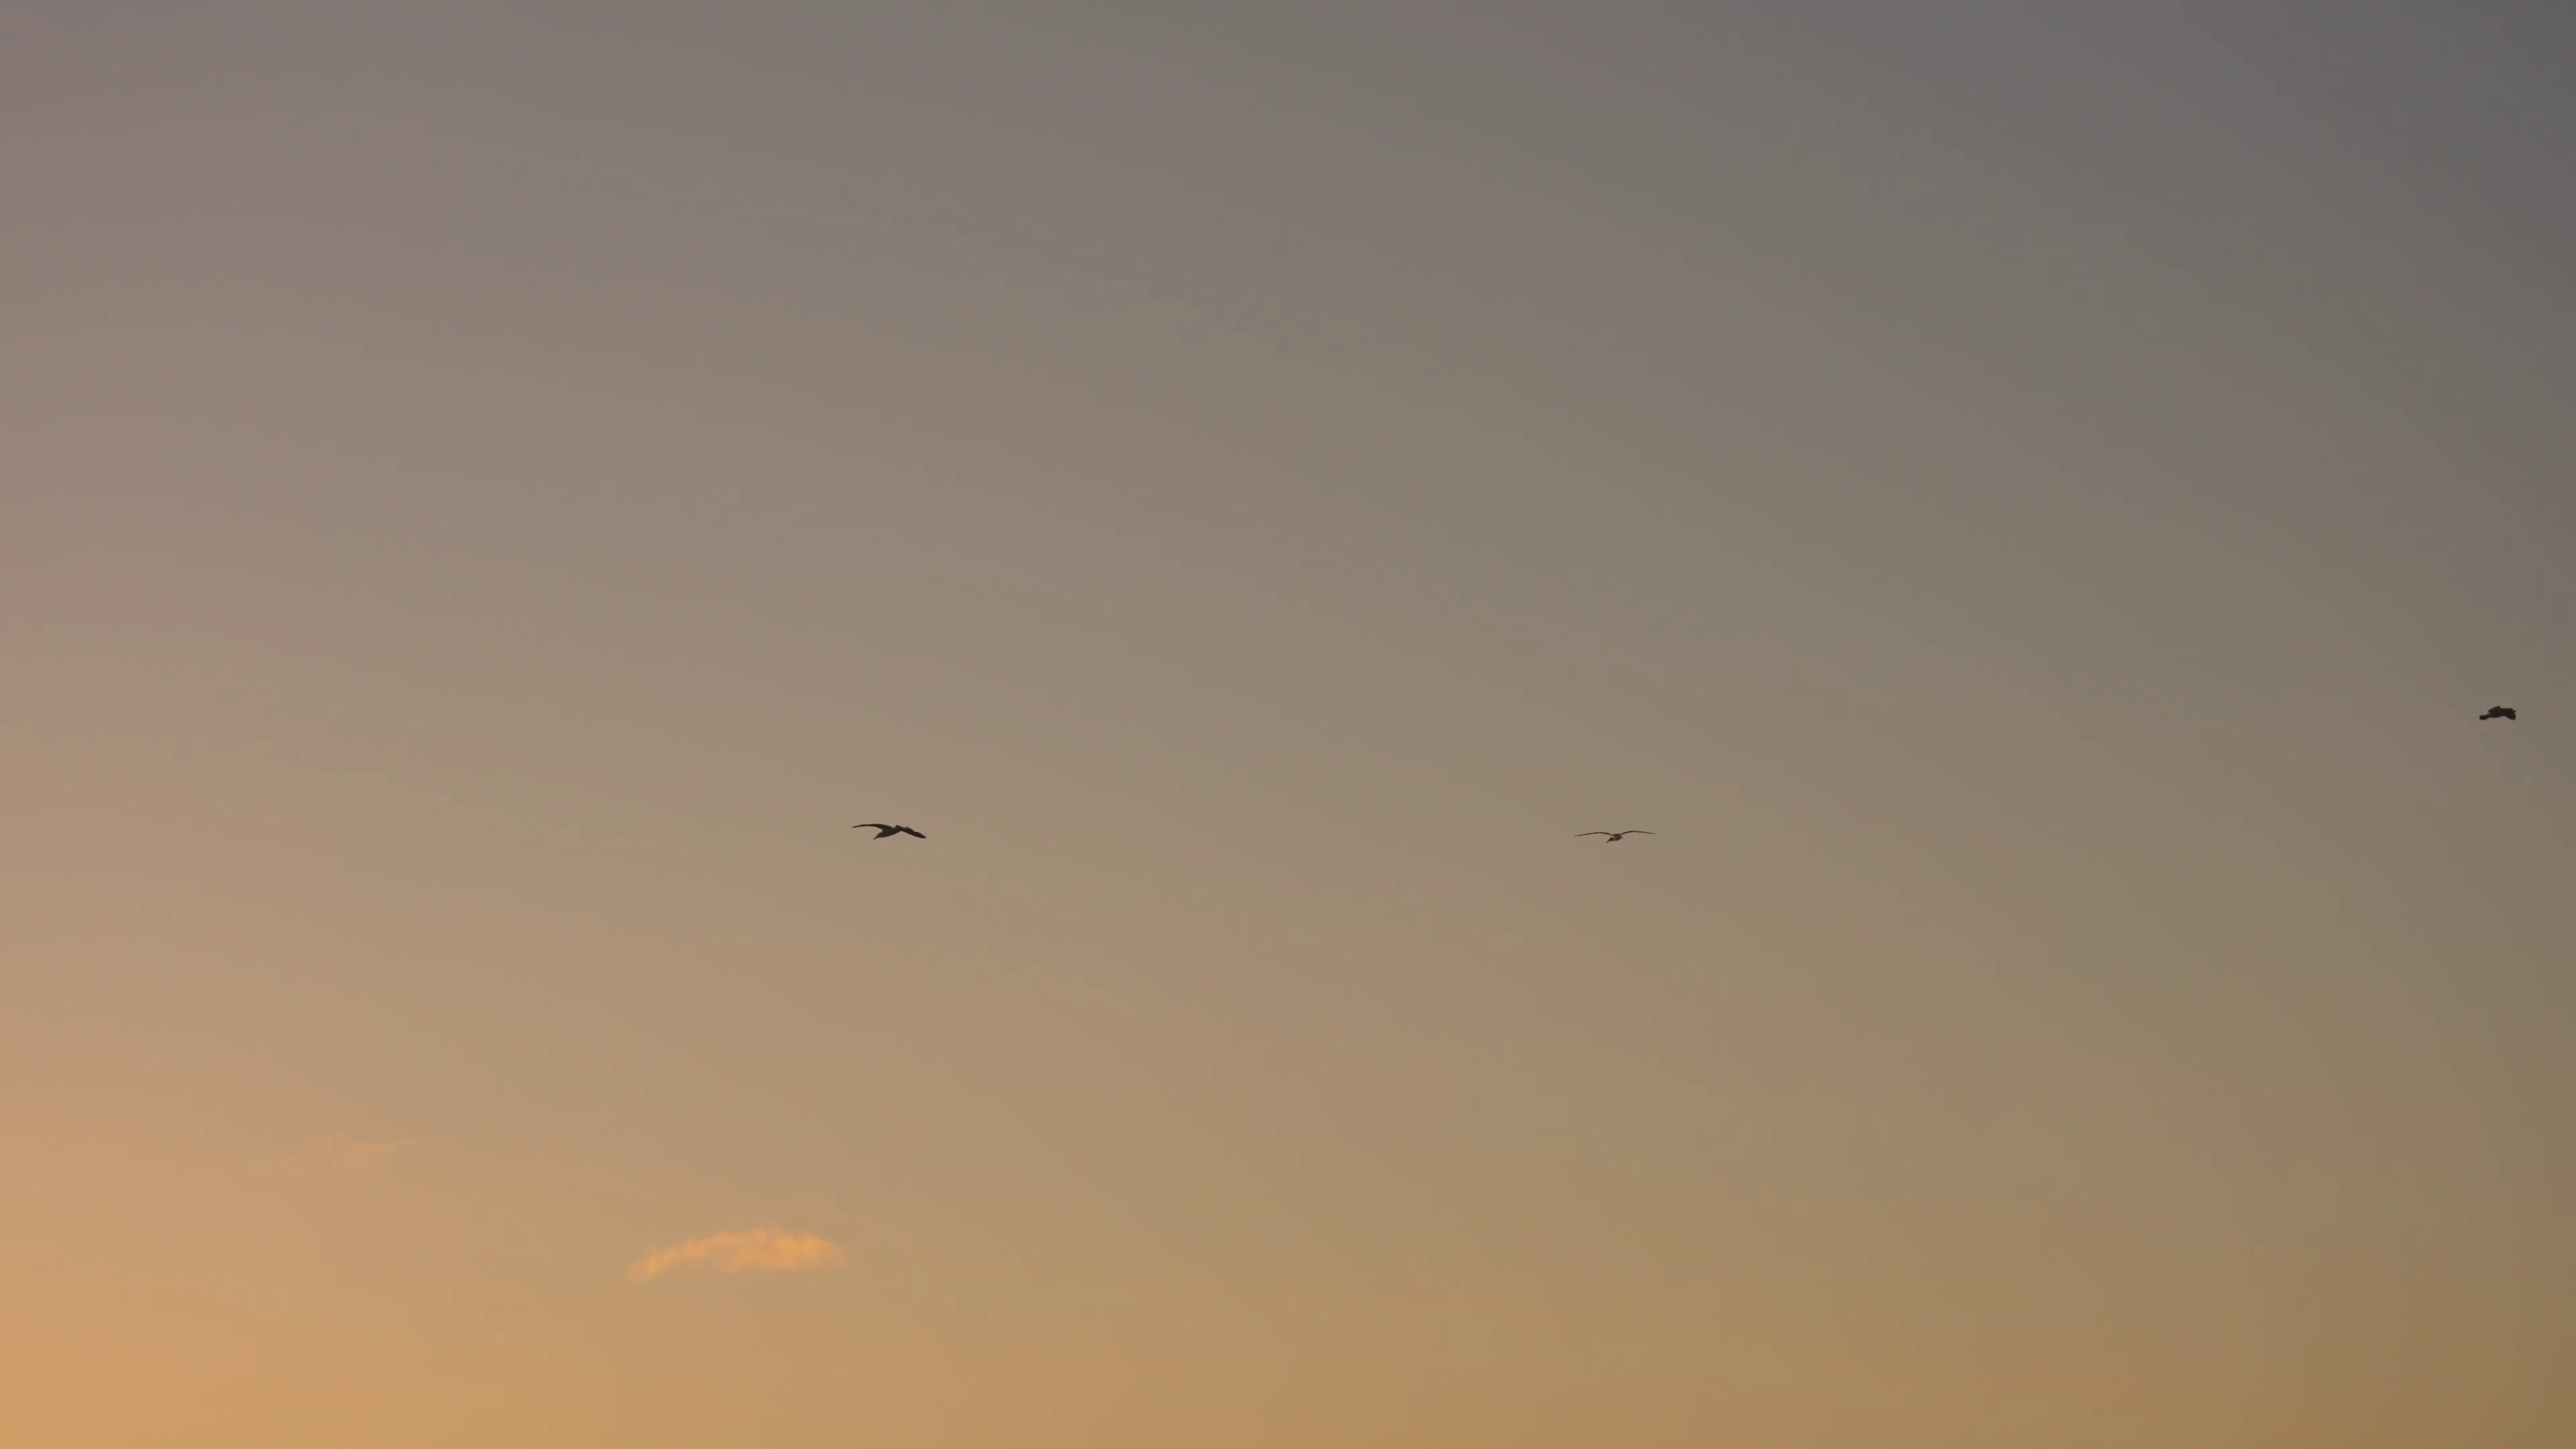bird: (856, 819, 927, 844), (1580, 824, 1656, 847), (2479, 706, 2518, 722)
